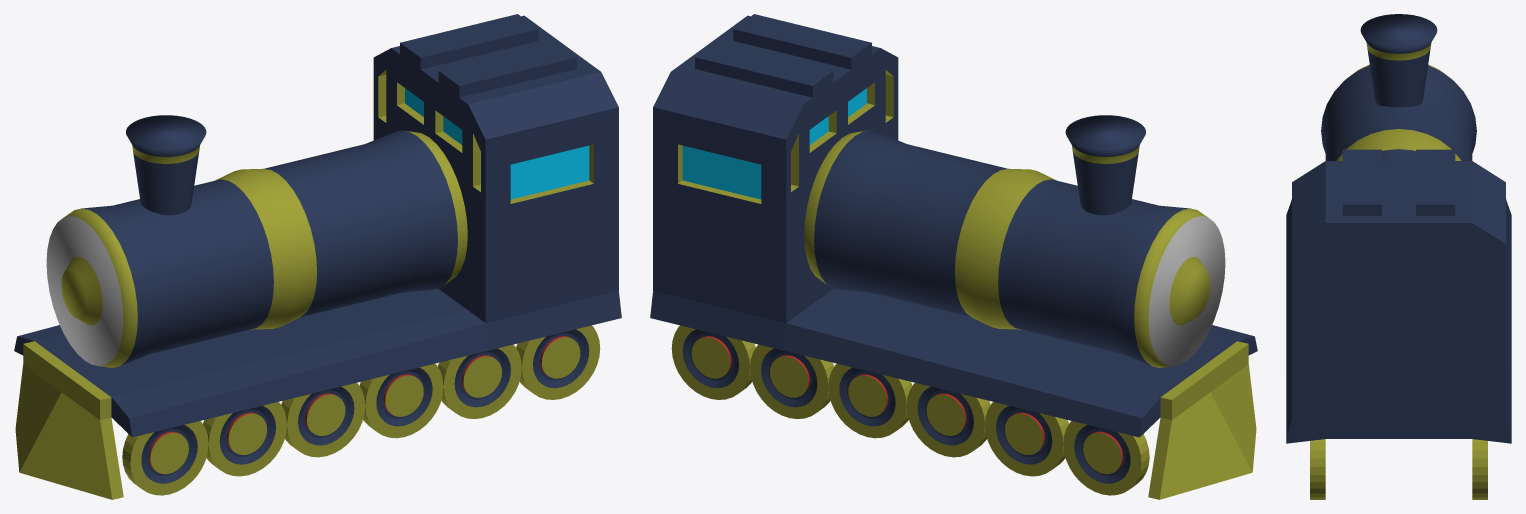
The model's file is TrainModel06.fbx.
3 renders of one model, left to right at view 1: azimuth 30°, elevation 25°; view 2: azimuth 150°, elevation 25°; view 3: azimuth 270°, elevation 25°, orthographic. The views are drawn at different scales.
Visible parts, largest first — view 1: TrainModel06; view 2: TrainModel06; view 3: TrainModel06.
Part boxes in pixels (x1=…): TrainModel06: x1=14, y1=14, x2=621, y2=499; TrainModel06: x1=650, y1=14, x2=1257, y2=499; TrainModel06: x1=1286, y1=14, x2=1511, y2=499.
Size of the model in its own units: 816 by 461 by 307.
